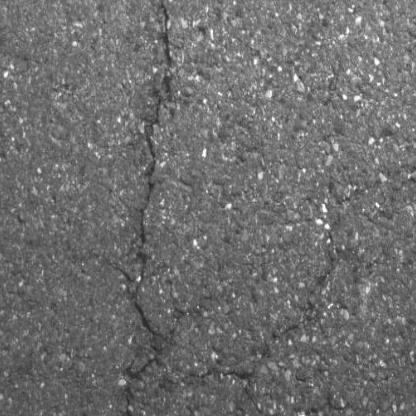Cracks: (114, 0, 178, 343), (175, 365, 267, 416), (302, 228, 339, 316), (119, 355, 165, 416), (268, 321, 304, 344)
